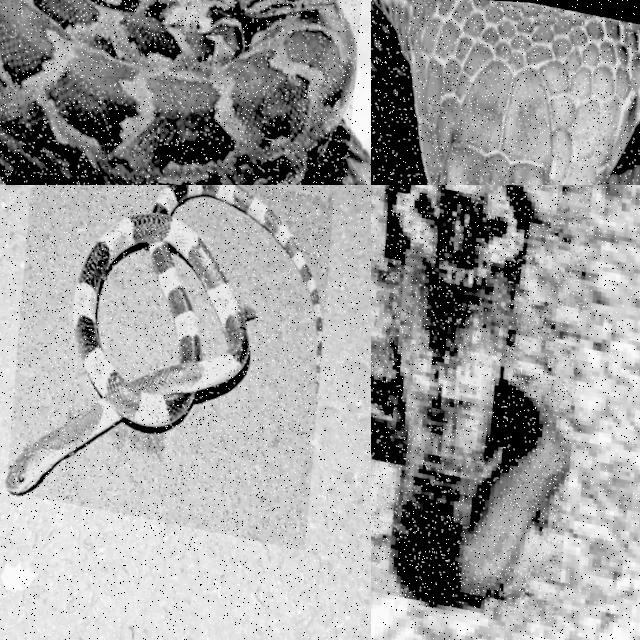Bungarus candidus: (5, 185, 322, 493)
Naja kaouthia: (371, 185, 570, 605)
Ophiophagus hannah: (371, 0, 639, 184)
Python bivittatus: (0, 0, 355, 184)
